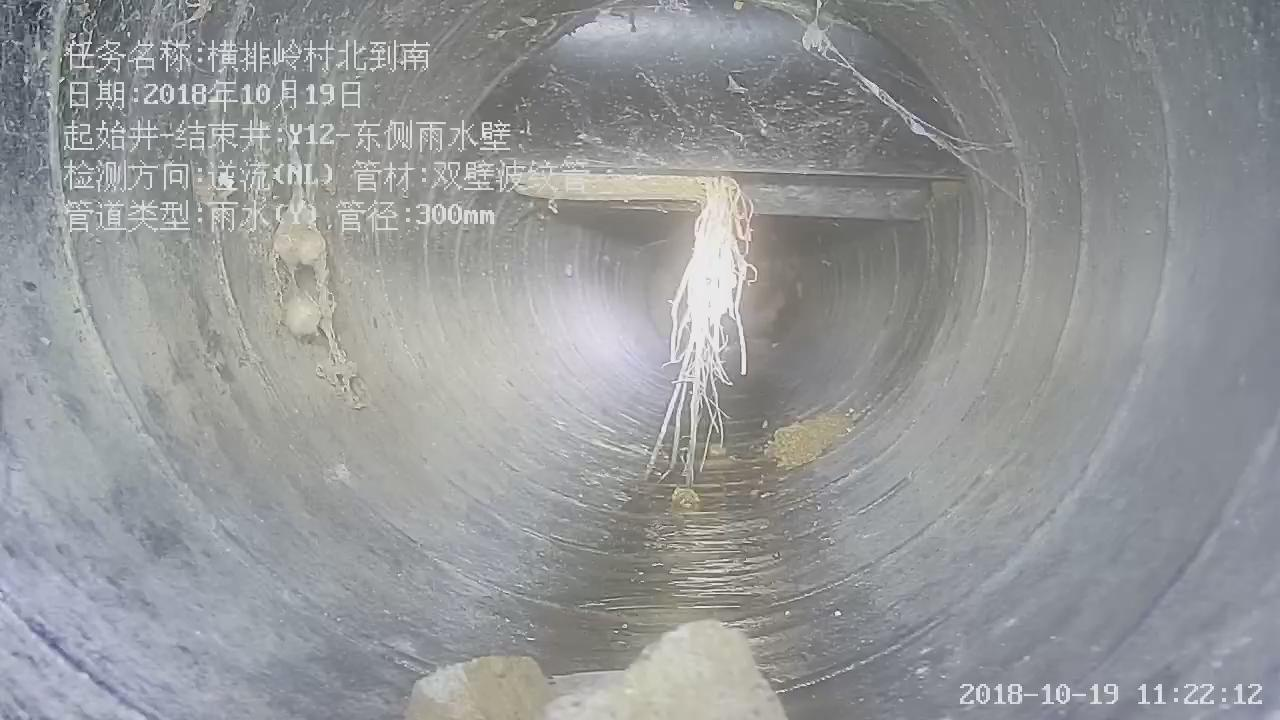SG: (647, 177, 757, 485)
YWCR: (471, 0, 973, 220)
